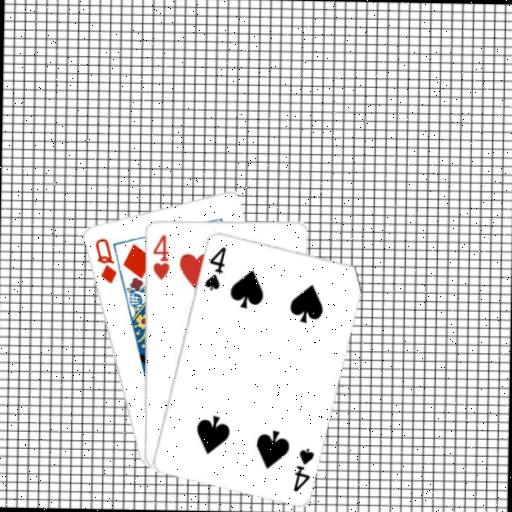4H: (149, 232, 171, 281)
4S: (202, 243, 228, 292), (290, 445, 316, 494)
QD: (91, 235, 119, 285)
